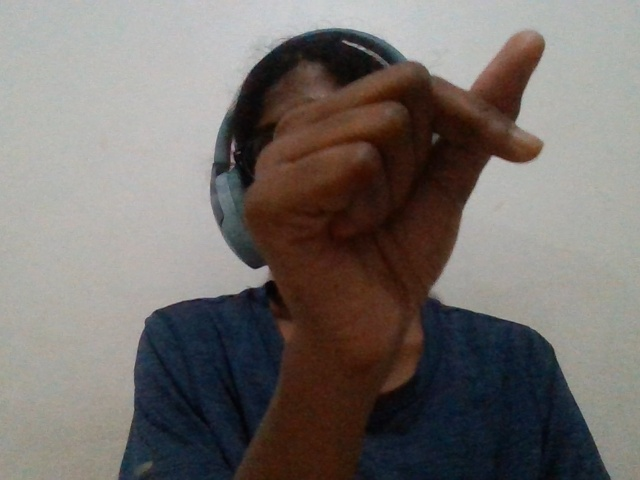G: (225, 18, 571, 405)
